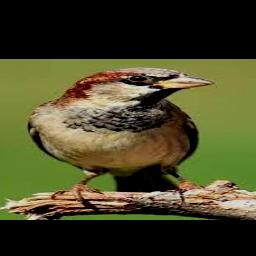Sparrow: (28, 68, 215, 204)
